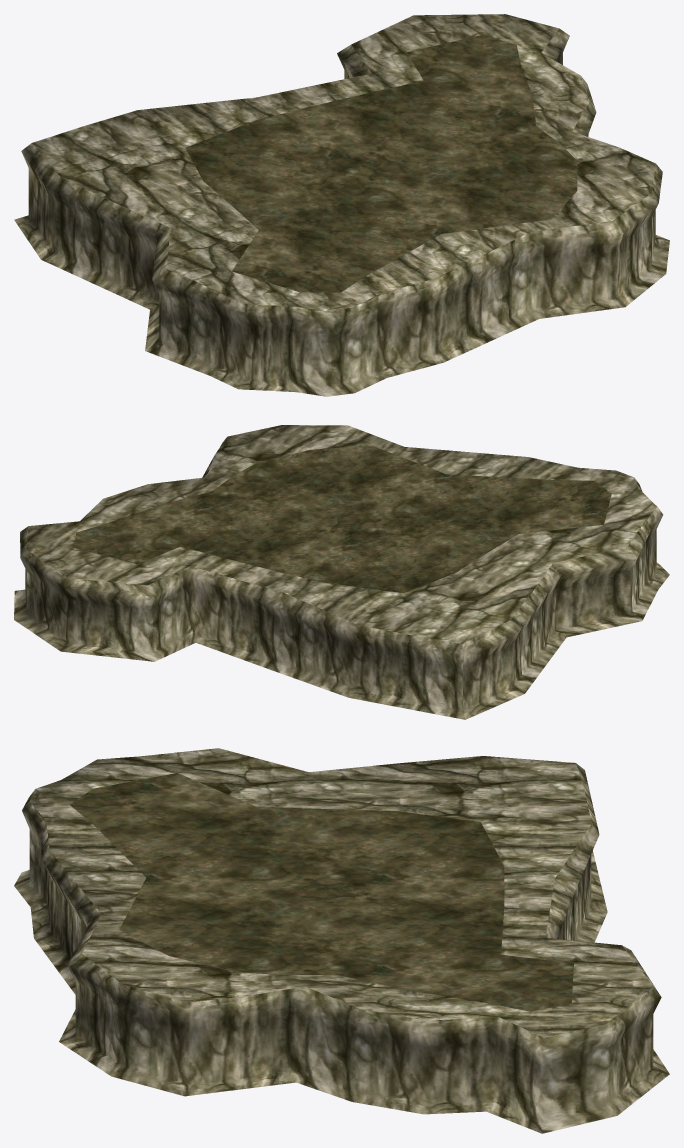
Rendered from CB_NEWPLAYSURFACE_CB_PLAYSURFACE92.fbx.
3 renders of one model, top to bottom at view 1: azimuth 30°, elevation 25°; view 2: azimuth 150°, elevation 25°; view 3: azimuth 270°, elevation 25°, orthographic. The views are drawn at different scales.
Parts seen in each view (by area): view 1: CB_NEWPLAYSURFACE_CB_PLAYSURFACE92; view 2: CB_NEWPLAYSURFACE_CB_PLAYSURFACE92; view 3: CB_NEWPLAYSURFACE_CB_PLAYSURFACE92.
Part boxes in pixels (bbox=[...]): CB_NEWPLAYSURFACE_CB_PLAYSURFACE92: bbox=[14, 14, 669, 396]; CB_NEWPLAYSURFACE_CB_PLAYSURFACE92: bbox=[14, 425, 669, 719]; CB_NEWPLAYSURFACE_CB_PLAYSURFACE92: bbox=[14, 748, 669, 1133].
Bounding box in the file's own units: 260077 × 34142 × 233348.
3 materials, 3 textured.
